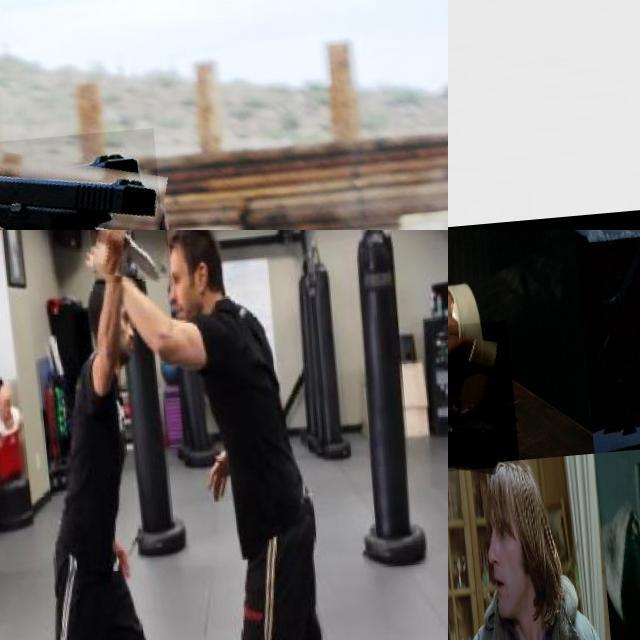-: (88, 230, 169, 290)
gun-knife-thesis - v11 Yolov5 augmented: (448, 0, 640, 230), (0, 134, 166, 230), (448, 324, 529, 480)
